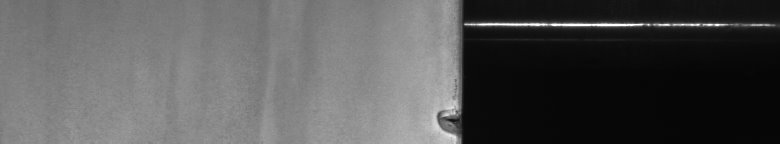hb: (431, 105, 452, 136)
